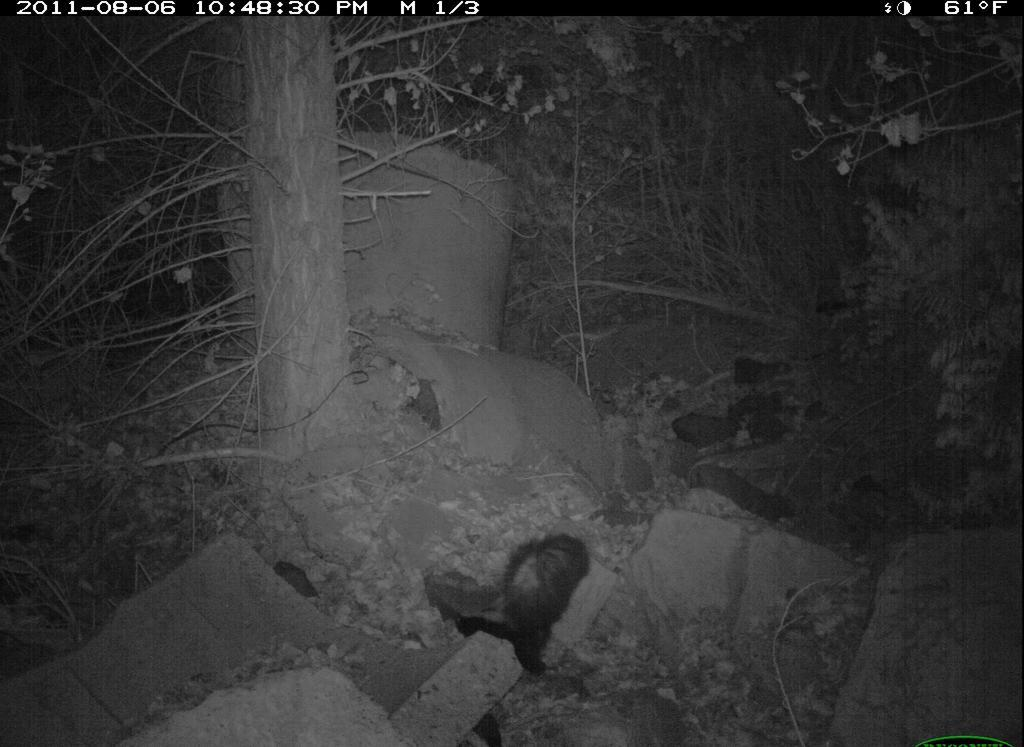skunk: (414, 530, 598, 685)
